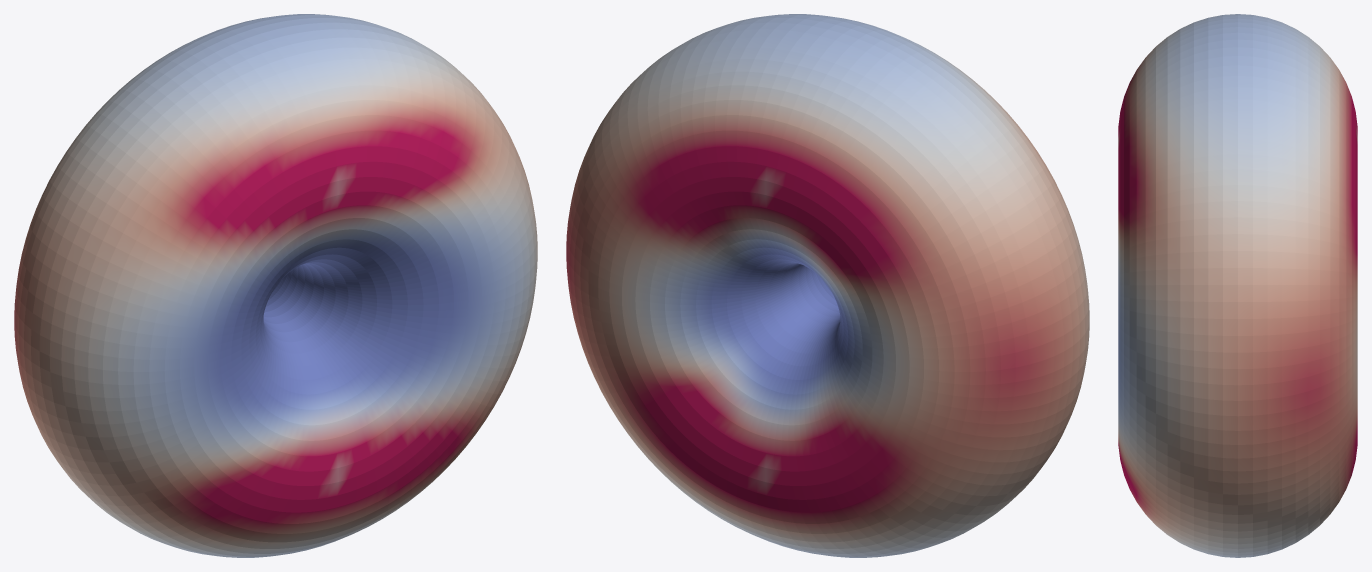
The picture shows the model from 3 angles, left to right: view 1: azimuth 30°, elevation 25°; view 2: azimuth 150°, elevation 25°; view 3: azimuth 270°, elevation 25°; orthographic projection. The views are drawn at different scales.
Parts seen in each view (by area): view 1: world; view 2: world; view 3: world.
Boxes of the visible parts, box(x1,y1,x2,y2) form: world: box(14, 14, 537, 557); world: box(566, 14, 1089, 557); world: box(1118, 14, 1357, 557).
Bounding box in the file's own units: 19.07 × 19.07 × 8.38.
